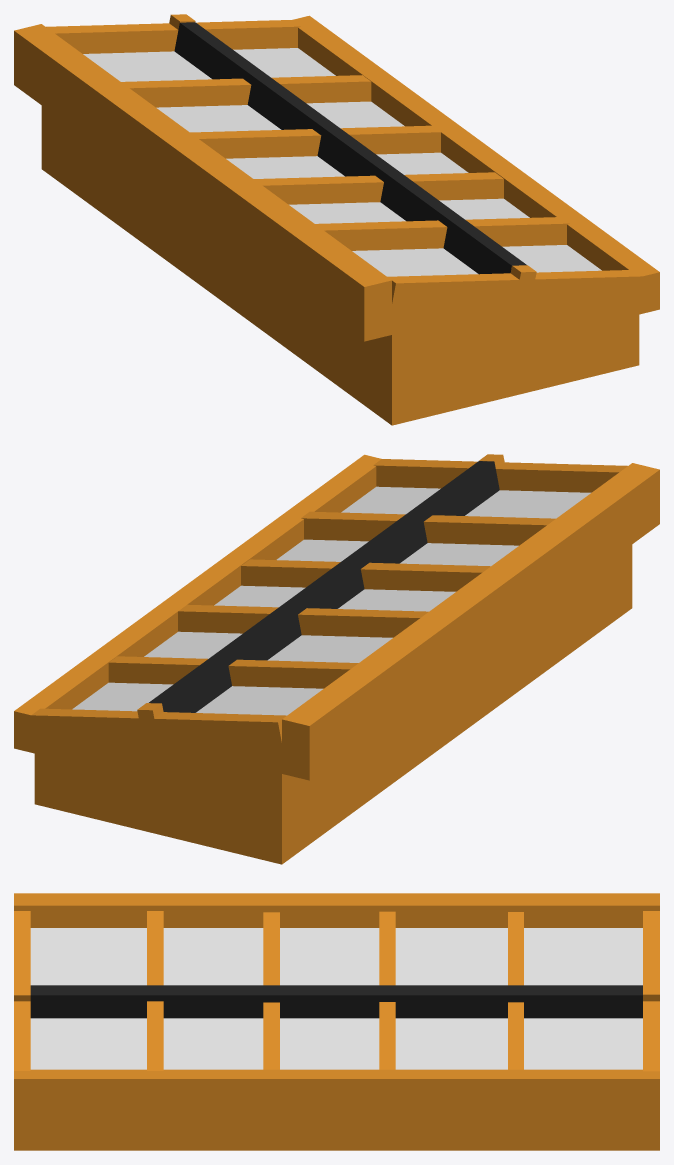
The model's file is Tempat Bahan.fbx.
The picture shows the model from 3 angles, top to bottom: view 1: azimuth 30°, elevation 25°; view 2: azimuth 150°, elevation 25°; view 3: azimuth 270°, elevation 25°; orthographic projection. The views are drawn at different scales.
Parts seen in each view (by area): view 1: Cube; view 2: Cube; view 3: Cube.
Part boxes in pixels (x1,y1,x2,y2): Cube: (14, 14, 659, 425); Cube: (14, 454, 659, 864); Cube: (14, 893, 659, 1150).
Size of the model in its own units: 1529 by 718 by 3141.
